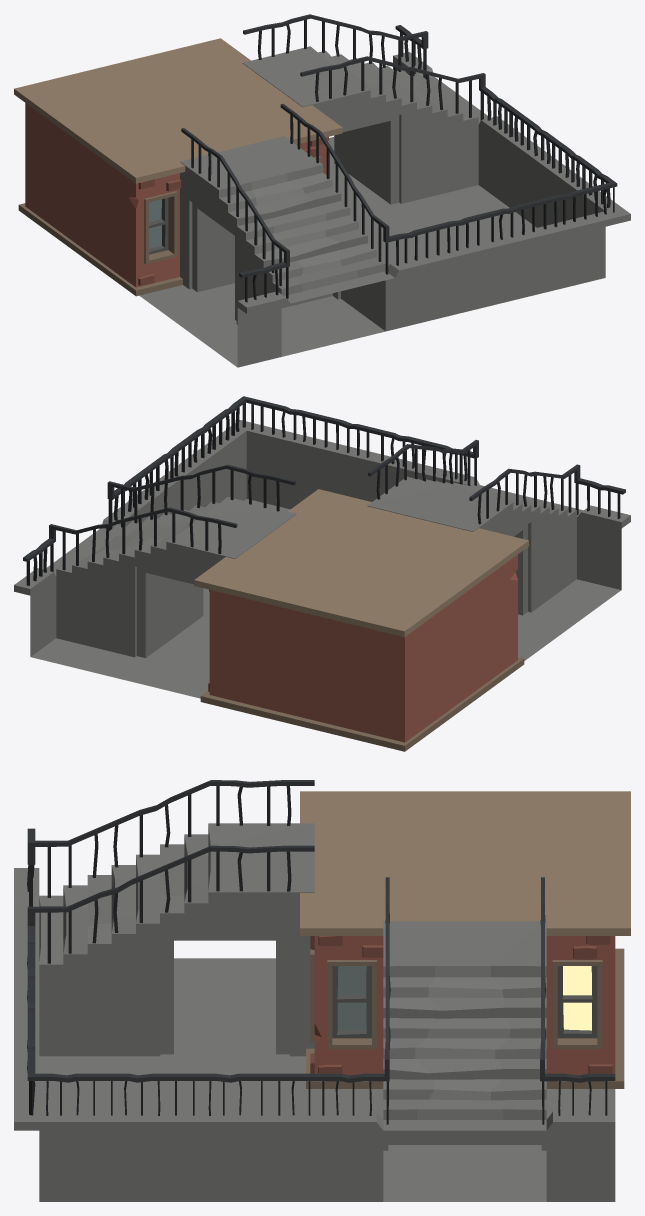
File: SM_Bld_Apartment_Stairs_Corner_01.fbx
3 renders of one model, top to bottom at view 1: azimuth 30°, elevation 25°; view 2: azimuth 150°, elevation 25°; view 3: azimuth 270°, elevation 25°, orthographic. The views are drawn at different scales.
Parts seen in each view (by area): view 1: SM_Bld_Apartment_Stairs_Corner_01; view 2: SM_Bld_Apartment_Stairs_Corner_01; view 3: SM_Bld_Apartment_Stairs_Corner_01.
Part boxes in pixels (box(x1,y1,x2,y2)): SM_Bld_Apartment_Stairs_Corner_01: box(14, 14, 630, 367); SM_Bld_Apartment_Stairs_Corner_01: box(14, 396, 630, 751); SM_Bld_Apartment_Stairs_Corner_01: box(14, 780, 630, 1201).
Bounding box in the file's own units: 1014 × 382 × 1026.
